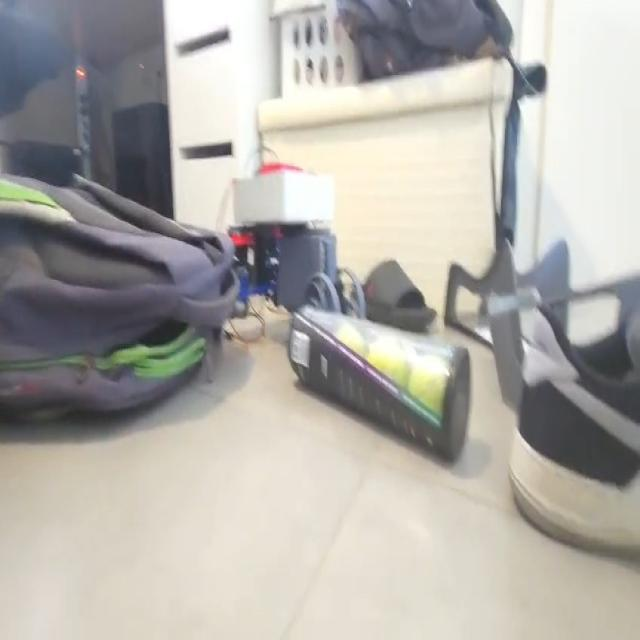Robot: (227, 160, 367, 320)
